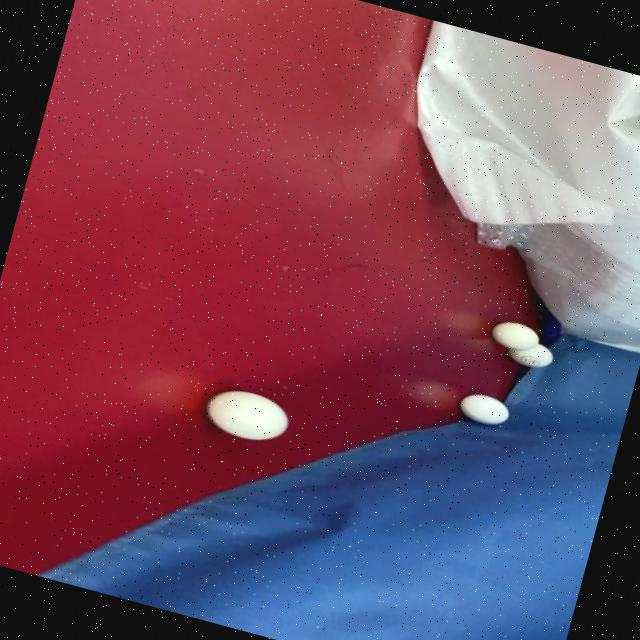ping-pong-ball: (200, 380, 298, 451), (453, 386, 518, 432), (488, 314, 546, 356)
